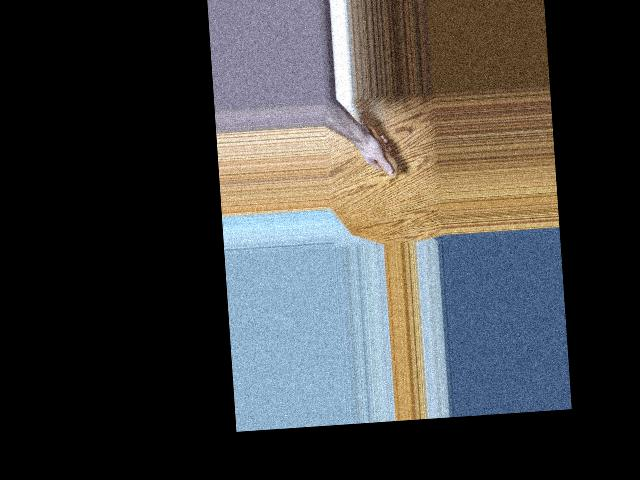sweet_potato: (355, 104, 401, 181)
